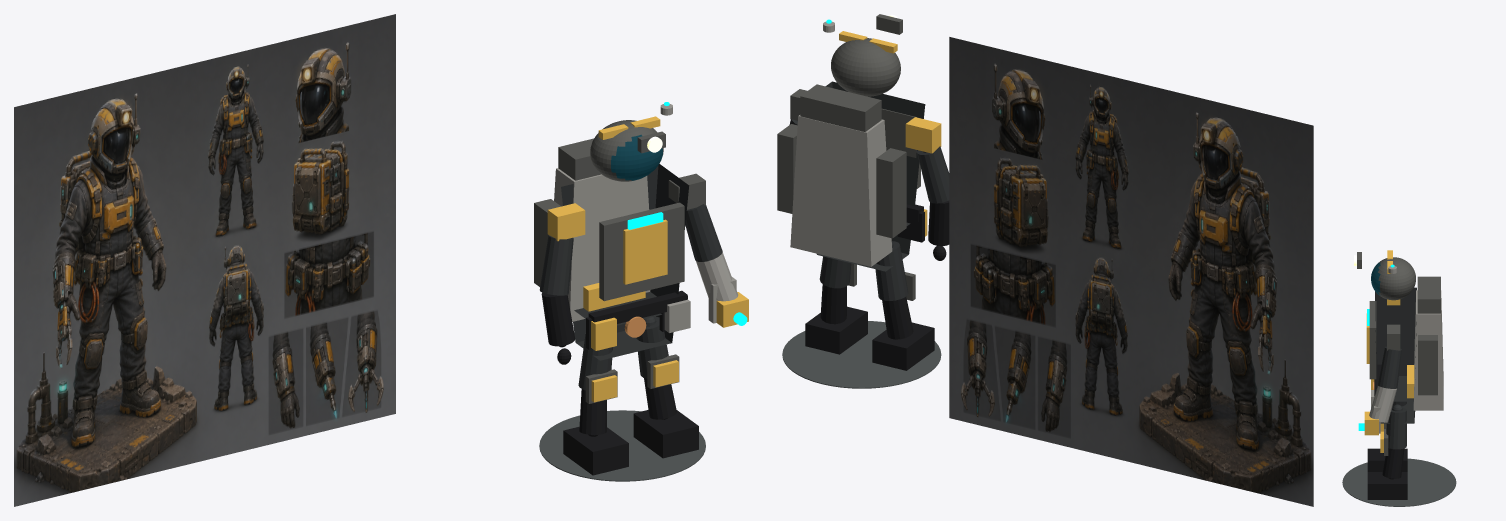
Rendered from player_engineer_refined.glb.
3 renders of one model, left to right at view 1: azimuth 30°, elevation 25°; view 2: azimuth 150°, elevation 25°; view 3: azimuth 270°, elevation 25°, orthographic. The views are drawn at different scales.
Parts seen in each view (by area): view 1: Reference_Generated_Concept_Image_Not_Exported, PER_Backpack_Main_Integrated, PER_Source_Footprint_Size_Guide, PER_Chest_Harness_Frame, PER_Helmet_Shell_With_Material_Visor, PER_Chest_Safety_Insert, PER_Left_Heavy_Boot, PER_Right_Heavy_Boot, PER_Torso_Single_Suit_Block, PER_Left_Upper_Arm_TaperedSegment, PER_Right_Upper_Arm_TaperedSegment, PER_Tool_Belt (+11 smaller); view 2: Reference_Generated_Concept_Image_Not_Exported, PER_Backpack_Main_Integrated, PER_Source_Footprint_Size_Guide, PER_Helmet_Shell_With_Material_Visor, PER_Backpack_Top_Roll, PER_Backpack_Left_Module, PER_Left_Heavy_Boot, PER_Right_Heavy_Boot, PER_Backpack_Right_Module, PER_Torso_Single_Suit_Block, PER_Left_Thigh_TaperedSegment, PER_Left_Upper_Arm_TaperedSegment (+6 smaller); view 3: PER_Source_Footprint_Size_Guide, PER_Torso_Single_Suit_Block, PER_Backpack_Main_Integrated, PER_Helmet_Shell_With_Material_Visor, PER_Backpack_Right_Module, PER_Right_Heavy_Boot, PER_Backpack_Top_Roll, PER_Right_Upper_Arm_TaperedSegment, PER_Right_Thigh_TaperedSegment, PER_Right_Forearm_ToolMount_TaperedSegment, PER_Chest_Harness_Frame, PER_Right_Lower_Leg_TaperedSegment (+5 smaller).
Part boxes in pixels (x1,y1,x2,y2): Reference_Generated_Concept_Image_Not_Exported: (14,14,395,506); PER_Backpack_Main_Integrated: (554,168,650,321); PER_Source_Footprint_Size_Guide: (539,410,705,481); PER_Chest_Harness_Frame: (599,202,684,301); PER_Helmet_Shell_With_Material_Visor: (590,120,663,181); PER_Chest_Safety_Insert: (623,219,667,284); PER_Left_Heavy_Boot: (563,426,628,475); PER_Right_Heavy_Boot: (633,410,698,458); PER_Torso_Single_Suit_Block: (561,164,689,325); PER_Left_Upper_Arm_TaperedSegment: (539,235,573,295); PER_Right_Upper_Arm_TaperedSegment: (685,204,722,261); PER_Tool_Belt: (588,290,687,323); Reference_Generated_Concept_Image_Not_Exported: (949,37,1313,506); PER_Backpack_Main_Integrated: (790,115,892,266); PER_Source_Footprint_Size_Guide: (782,321,941,388); PER_Helmet_Shell_With_Material_Visor: (831,38,900,96); PER_Backpack_Top_Roll: (800,84,881,131); PER_Backpack_Left_Module: (876,148,906,238); PER_Left_Heavy_Boot: (872,322,934,370); PER_Right_Heavy_Boot: (805,306,867,354); PER_Backpack_Right_Module: (777,124,797,213); PER_Torso_Single_Suit_Block: (825,81,925,225); PER_Left_Thigh_TaperedSegment: (875,241,908,300); PER_Left_Upper_Arm_TaperedSegment: (917,146,949,203); PER_Source_Footprint_Size_Guide: (1342,458,1456,506); PER_Torso_Single_Suit_Block: (1375,287,1416,401); PER_Backpack_Main_Integrated: (1413,290,1443,410); PER_Helmet_Shell_With_Material_Visor: (1371,257,1415,300); PER_Backpack_Right_Module: (1418,335,1437,395); PER_Right_Heavy_Boot: (1367,472,1407,499); PER_Backpack_Top_Roll: (1417,276,1440,313); PER_Right_Upper_Arm_TaperedSegment: (1378,346,1401,388); PER_Right_Thigh_TaperedSegment: (1386,407,1406,449); PER_Right_Forearm_ToolMount_TaperedSegment: (1369,386,1396,422); PER_Chest_Harness_Frame: (1369,301,1376,379); PER_Right_Lower_Leg_TaperedSegment: (1382,448,1404,478).
Bounding box in the file's own units: 3.02 × 1.9 × 0.89.
11 materials, 1 textured.
